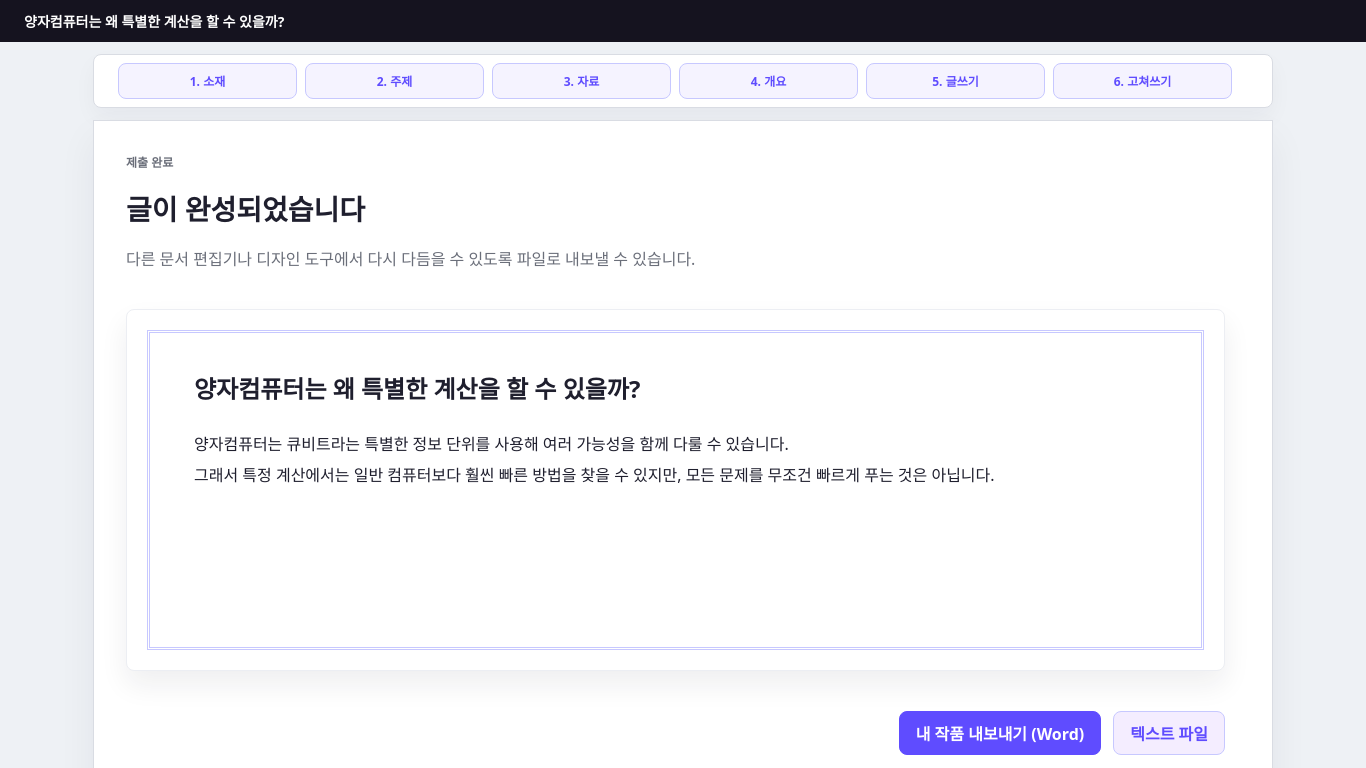
Test: GuidedWritingFlow completion › lets students move back to earlier guided writing steps after submission
Expected: the heading "글이 완성되었습니다" is shown, [126,190,365,228]
Click the button "1. 소재". click: (208, 81)
box: [119,64,296,98]
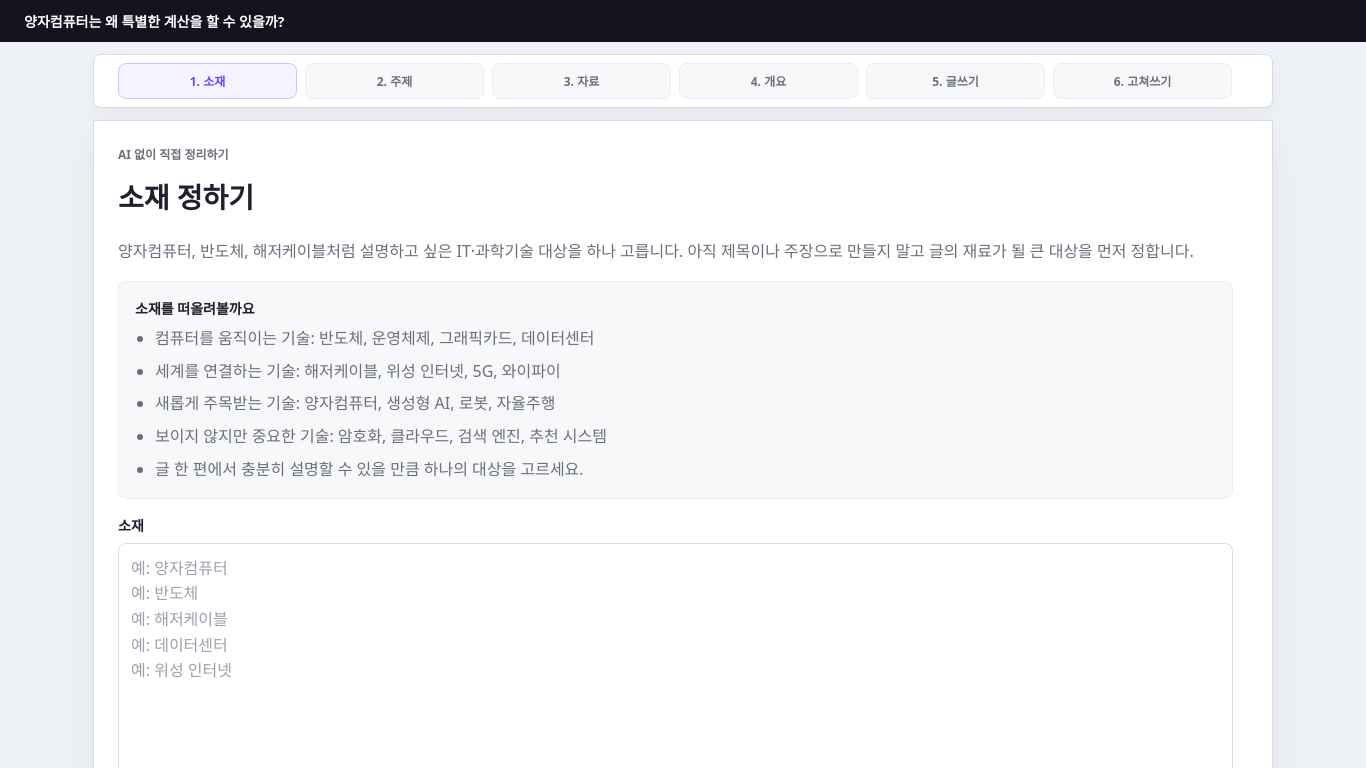
Result: the heading "소재 정하기" is shown at [118,178,254,216]
Result: the heading "글이 완성되었습니다" is gone
